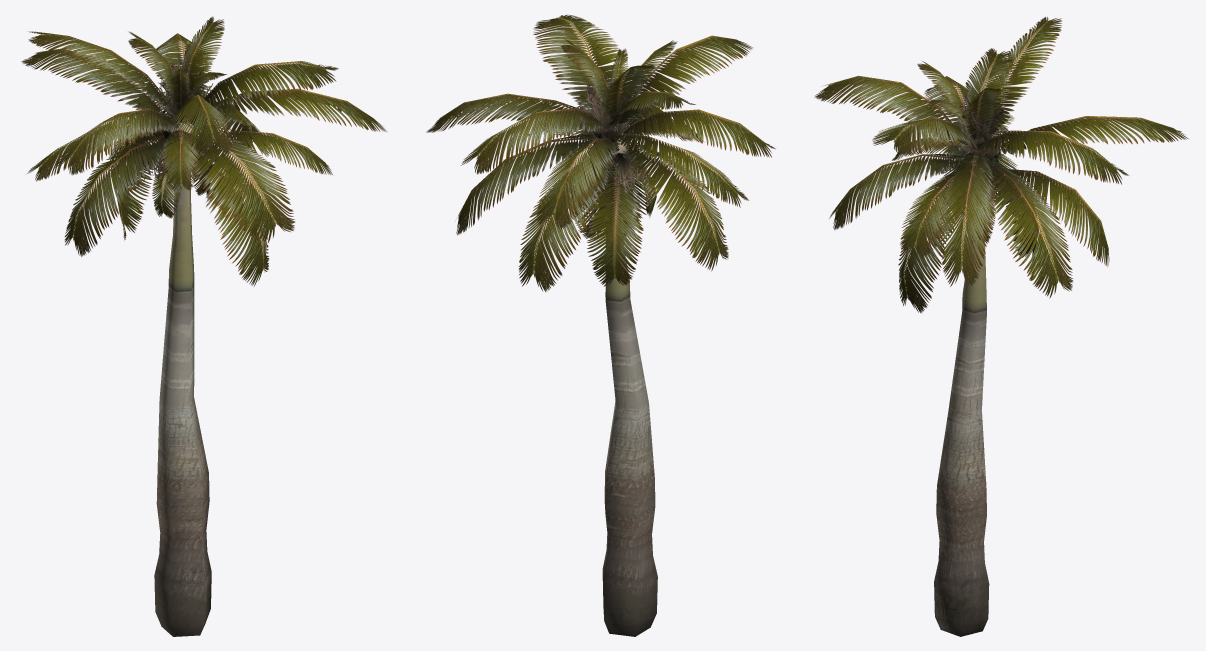
The model's file is Palm_Tropical_Golden_02.glb.
3 renders of one model, left to right at view 1: azimuth 30°, elevation 25°; view 2: azimuth 150°, elevation 25°; view 3: azimuth 270°, elevation 25°, orthographic. The views are drawn at different scales.
Visible parts, largest first — view 1: Palm1_VARCol2; view 2: Palm1_VARCol2; view 3: Palm1_VARCol2.
Part boxes in pixels (bbox=[...]): Palm1_VARCol2: bbox=[21, 16, 387, 636]; Palm1_VARCol2: bbox=[426, 14, 775, 636]; Palm1_VARCol2: bbox=[814, 17, 1188, 636].
Size of the model in its own units: 3.49 by 5.75 by 3.54.
Materials: 1 (1 with a texture image).
